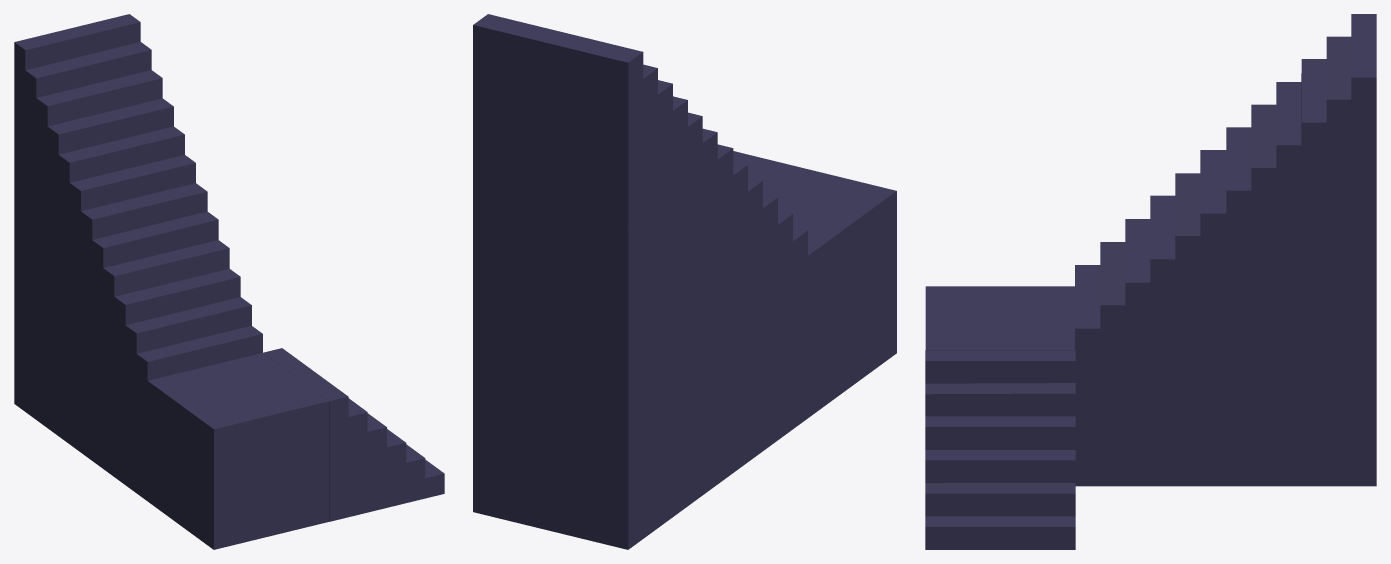
Rendered from platform-L_6x9x9ft.fbx.
3 views of the same model, side by side, from view 1: azimuth 30°, elevation 25°; view 2: azimuth 150°, elevation 25°; view 3: azimuth 270°, elevation 25° (orthographic). The views are drawn at different scales.
Visible parts, largest first — view 1: Cube, Cube.002, Cube.001, Cube.003; view 2: Cube, Cube.002, Cube.001; view 3: Cube, Cube.003, Cube.001, Cube.002.
Boxes of the visible parts, x1,y1,x2,y2 form: Cube: (14,163,328,549); Cube.002: (14,14,195,210); Cube.001: (81,183,262,381); Cube.003: (263,348,444,521); Cube: (473,153,896,549); Cube.002: (473,14,717,224); Cube.001: (717,144,807,321); Cube: (925,150,1376,486); Cube.003: (925,350,1075,549); Cube.001: (1075,150,1225,351); Cube.002: (1226,14,1376,213).
Bounding box in the file's own units: 183 × 275 × 274.
